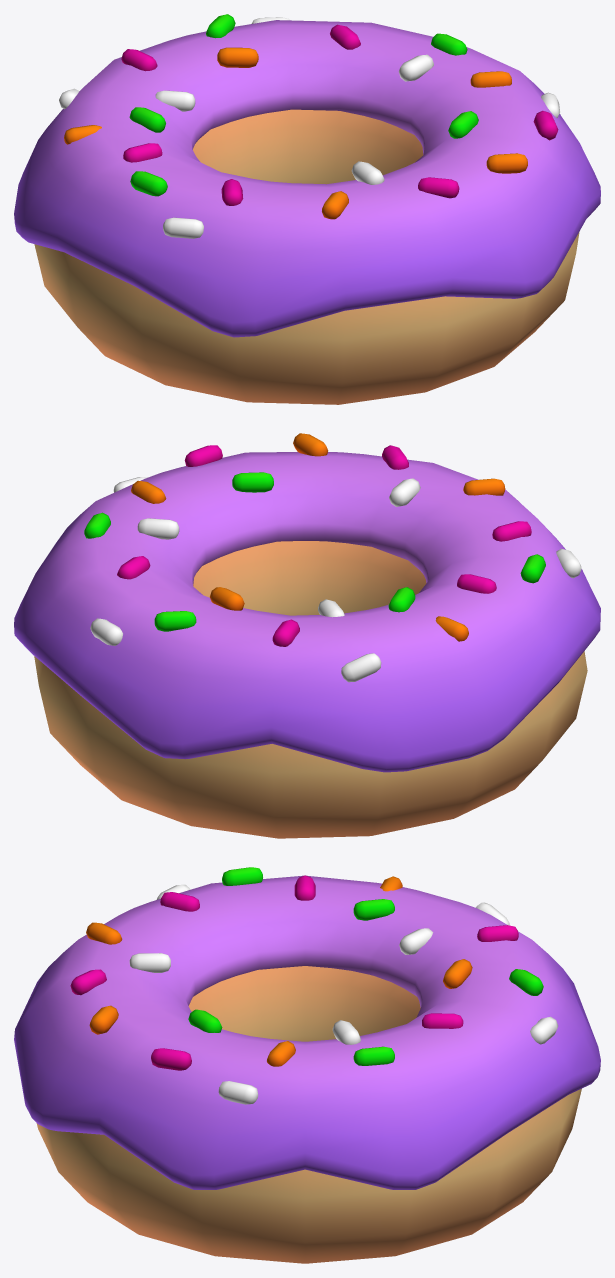
File: Donut_V3_01.fbx
The picture shows the model from 3 angles, top to bottom: view 1: azimuth 30°, elevation 25°; view 2: azimuth 150°, elevation 25°; view 3: azimuth 270°, elevation 25°; orthographic projection.
Parts seen in each view (by area): view 1: Donut_V3_01; view 2: Donut_V3_01; view 3: Donut_V3_01.
Boxes of the visible parts, box(x1,y1,x2,y2) form: Donut_V3_01: box(14, 14, 600, 404); Donut_V3_01: box(14, 433, 600, 838); Donut_V3_01: box(14, 867, 600, 1263).
Size of the model in its own units: 42.64 by 17.41 by 42.95.
